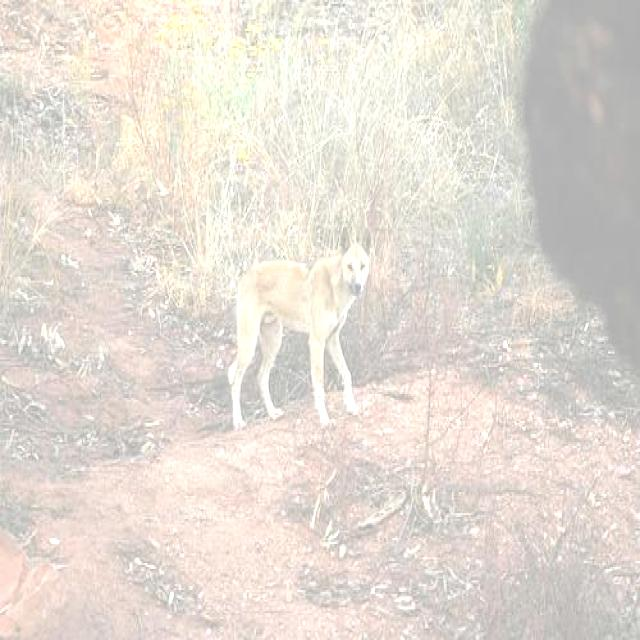Dog: (212, 183, 410, 434)
